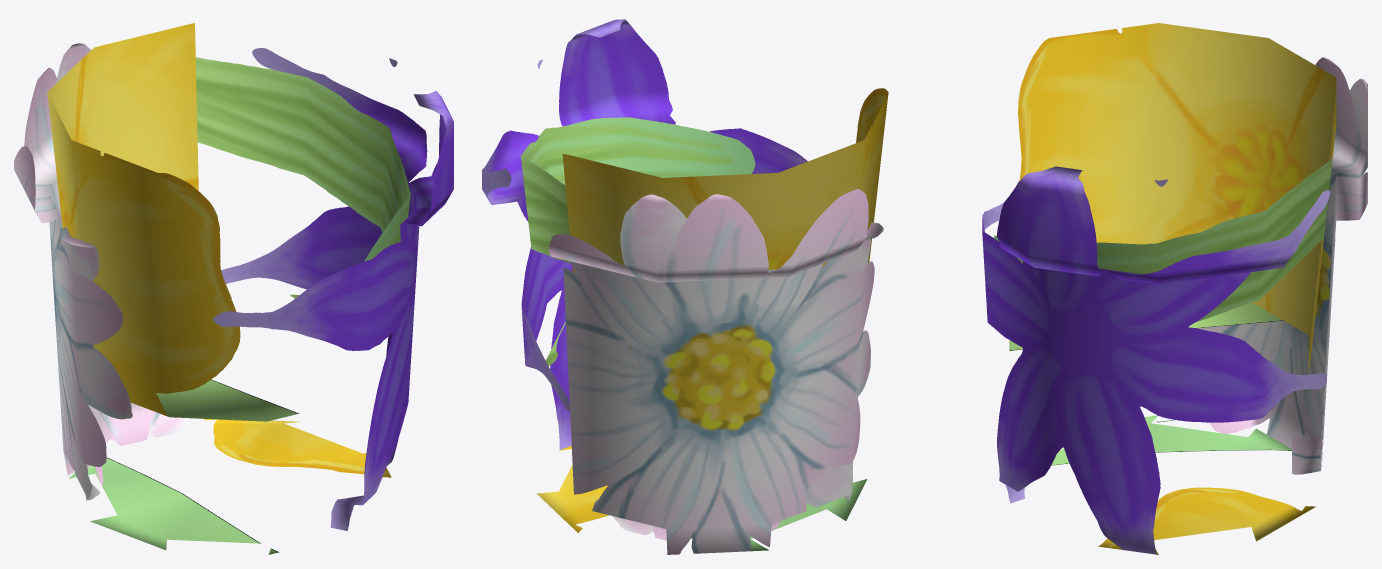
File: Plantpot4.fbx
The picture shows the model from 3 angles, left to right: view 1: azimuth 30°, elevation 25°; view 2: azimuth 150°, elevation 25°; view 3: azimuth 270°, elevation 25°; orthographic projection.
Visible parts, largest first — view 1: pCylinder10; view 2: pCylinder10; view 3: pCylinder10.
Part boxes in pixels (box(x1,y1,x2,y2)): pCylinder10: box(14, 23, 453, 554); pCylinder10: box(482, 19, 888, 554); pCylinder10: box(982, 23, 1367, 554).
Bounding box in the file's own units: 21.88 × 21.12 × 20.81.
